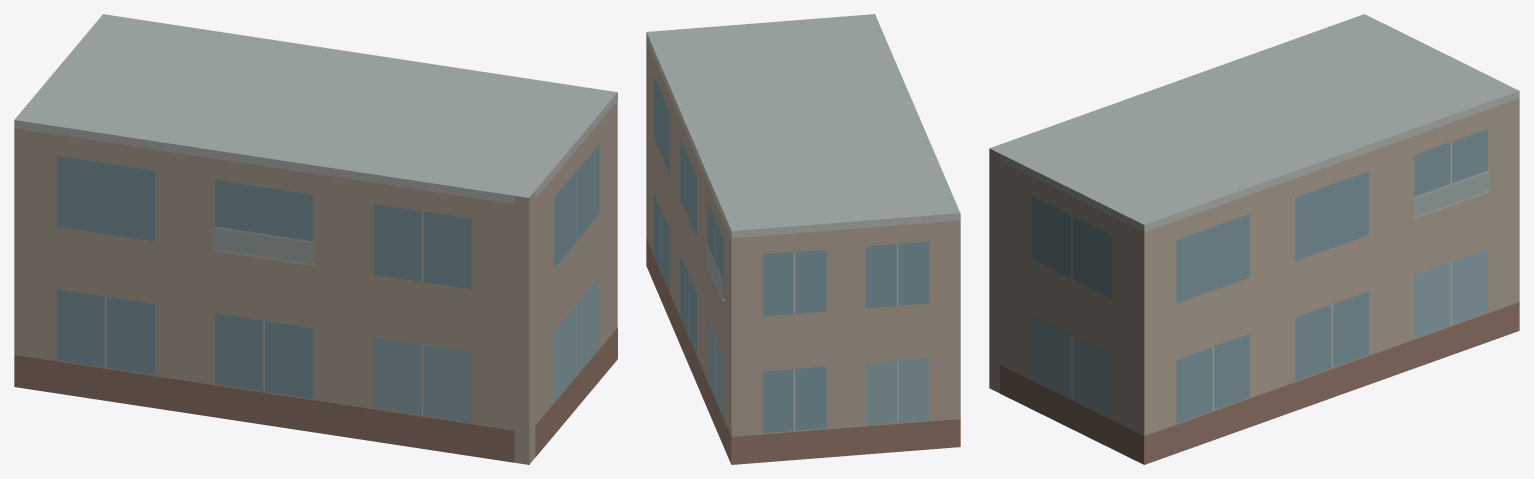
Rendered from survey-upis-32923428.glb.
3 views of the same model, side by side, from view 1: azimuth 30°, elevation 25°; view 2: azimuth 150°, elevation 25°; view 3: azimuth 270°, elevation 25° (orthographic). The views are drawn at different scales.
Visible parts, largest first — view 1: survey-upis-32923428.tmp; view 2: survey-upis-32923428.tmp; view 3: survey-upis-32923428.tmp.
Part boxes in pixels (<box>): survey-upis-32923428.tmp: <box>14,14,617,464</box>; survey-upis-32923428.tmp: <box>646,14,960,464</box>; survey-upis-32923428.tmp: <box>989,14,1519,464</box>.
Size of the model in its own units: 14.72 by 7.8 by 15.63.
